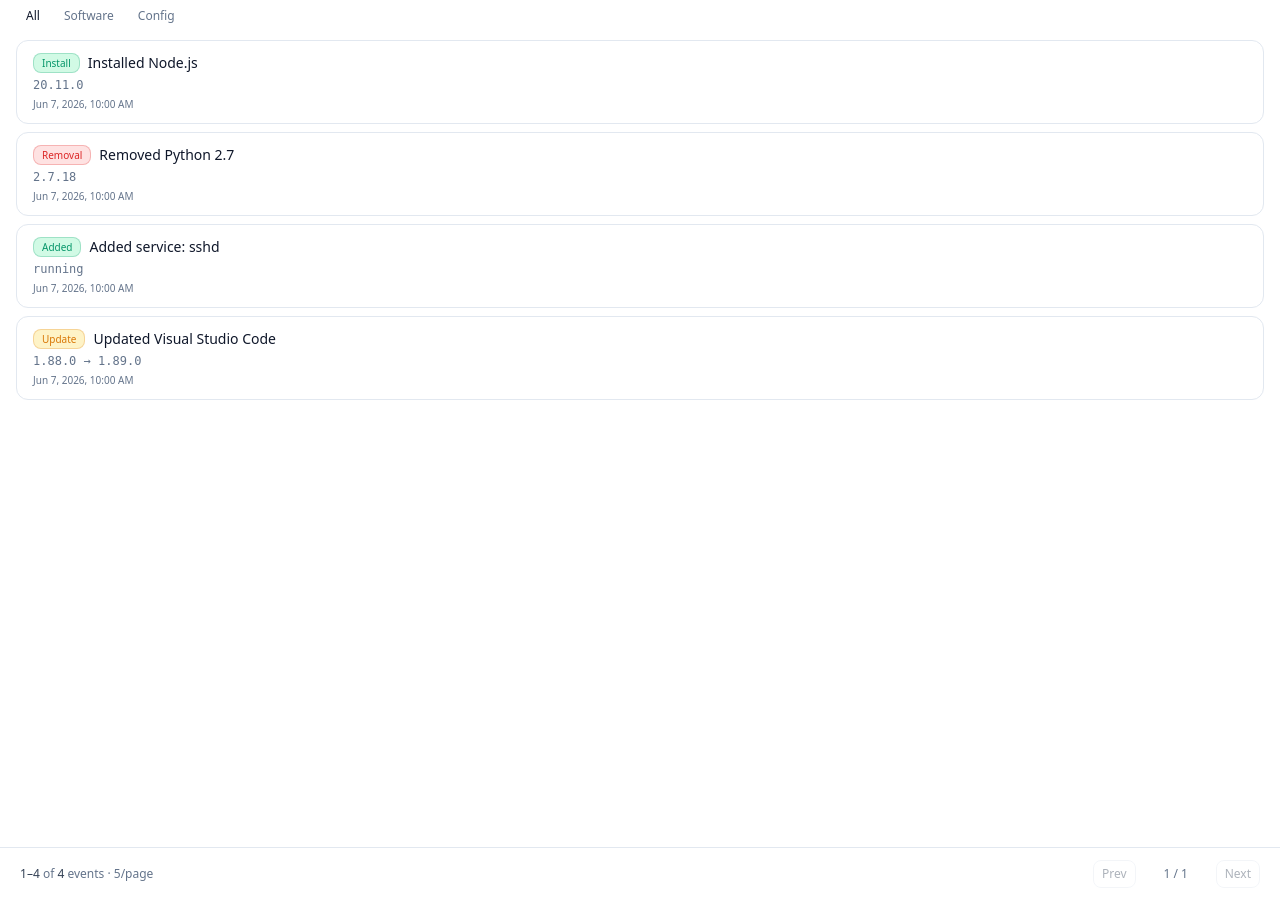
TimelineEventList › returns to all events when All filter is clicked
The width and height of the screenshot is (1280, 900).
Click the button "Software": (89, 16) [54,4,124,28]
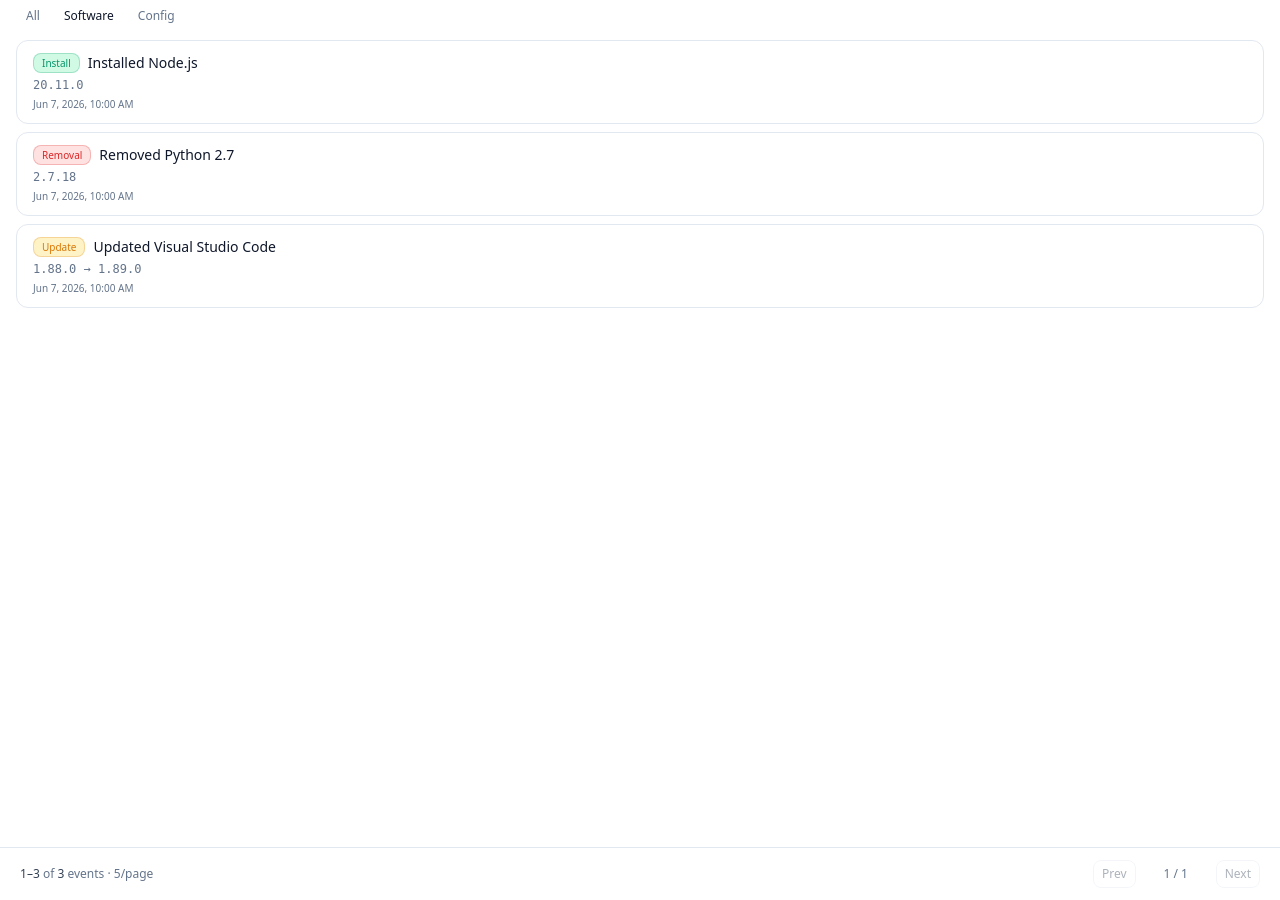
Click the button "All": (33, 16) [16,4,50,28]
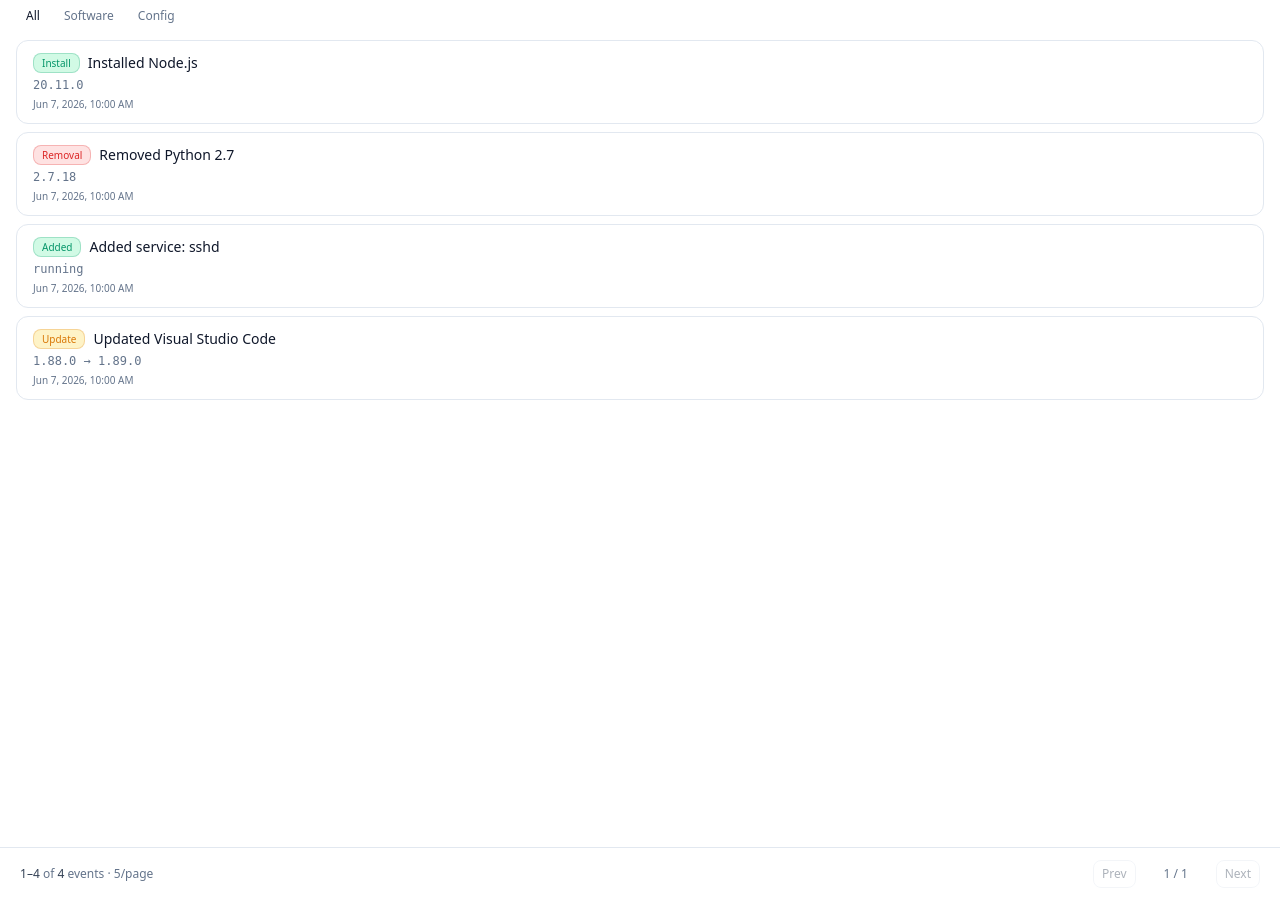
Check: the text "Installed Node.js" is shown, box [88,53,198,73]
Check: the text "Added service: sshd" is shown, box [90,237,220,257]
